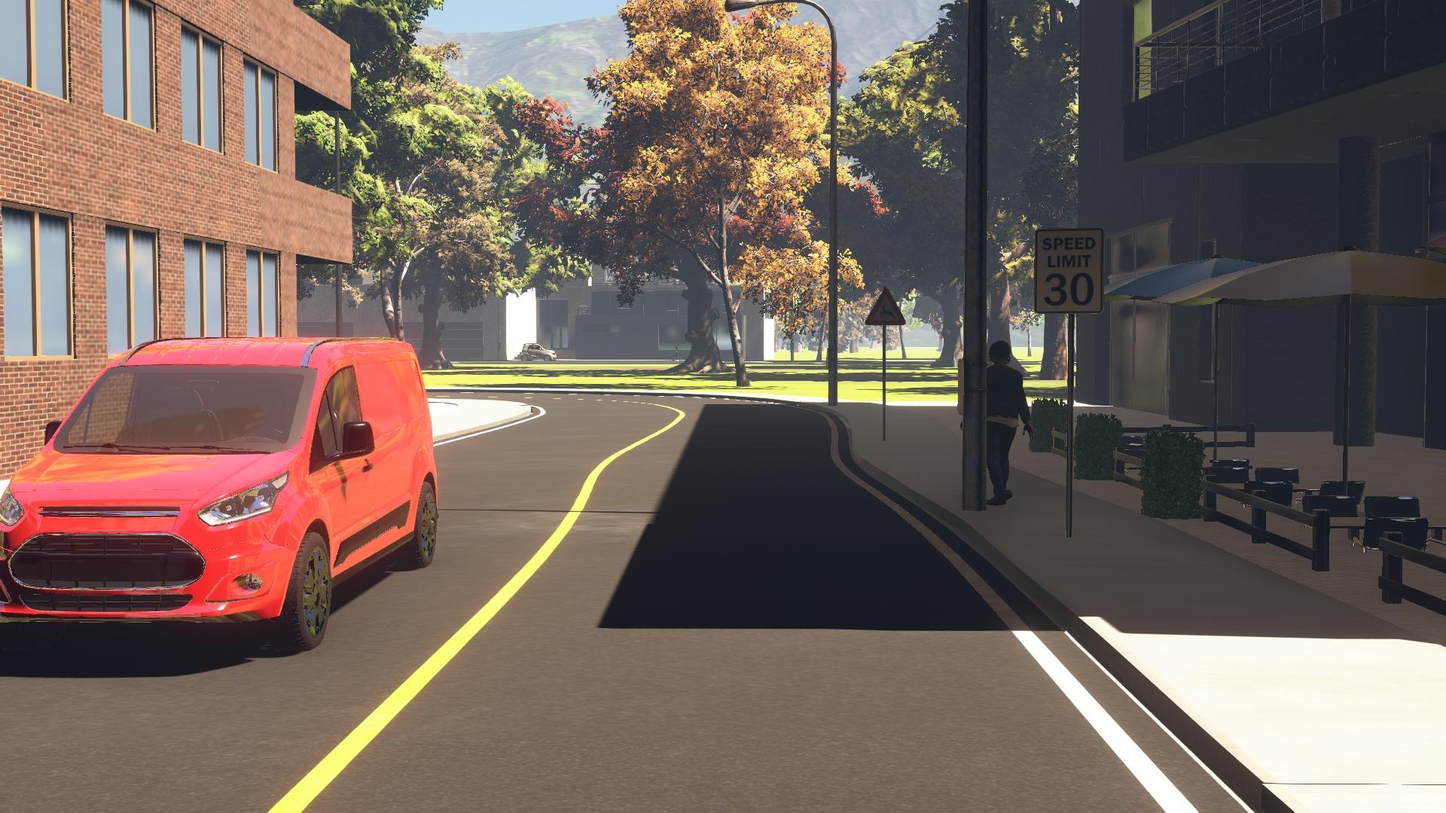30 MPH: (1036, 228, 1103, 311)
